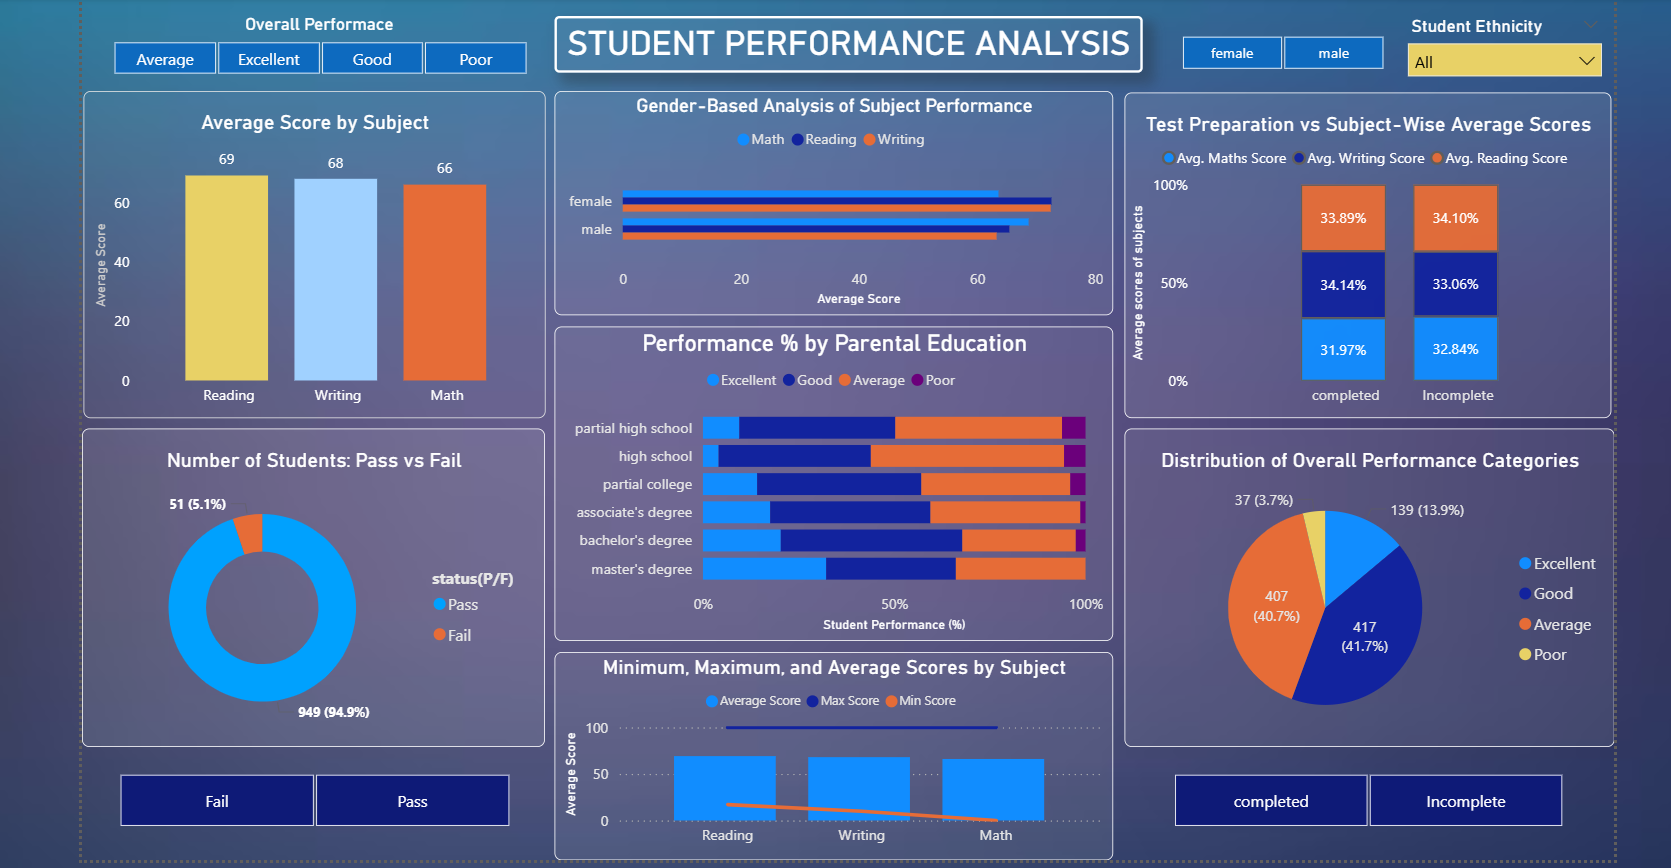

The page's visual inventory and layout, read from the dashboard file:
{"tool":"powerbi","page":{"name":"Page 1","canvas":[1280,720],"ordinal":0},"visuals":[{"type":"clusteredColumnChart","title":"Average Score by Subject","fields":{"Category":["Subjects.Subject"],"Y":["StudentsPerformance.Average Score by Subject"]},"box":[0.9,77.9,386,273.1],"z":0},{"type":"clusteredBarChart","title":"Gender-Based Analysis of Subject Performance","fields":{"Category":["StudentsPerformance.gender "],"Y":["StudentsPerformance.Average Score"],"Series":["Subjects.Subject"]},"box":[394.9,77.9,466.6,187.2],"z":1000},{"type":"pieChart","title":"Distribution of Overall Performance Categories","fields":{"Y":["CountNonNull(StudentsPerformance.student_ID)"],"Category":["PerformanceTable.overall_performance"]},"box":[870.4,360,409.3,266],"z":2000},{"type":"donutChart","title":"Number of Students: Pass vs Fail","fields":{"Category":["StudentsPerformance.status(P/F)"],"Y":["CountNonNull(StudentsPerformance.student_ID)"]},"box":[0,360,386.9,266],"z":3000},{"type":"lineClusteredColumnComboChart","title":"Minimum, Maximum, and Average Scores by Subject","fields":{"Category":["Subjects.Subject"],"Y":["StudentsPerformance.Average Score"],"Y2":["StudentsPerformance.Max Score by Subject","StudentsPerformance.Min Score by Subject"]},"box":[394.9,546.3,466.6,173.7],"z":5000},{"type":"hundredPercentStackedColumnChart","title":"Test Preparation vs Subject-Wise Average Scores","fields":{"Category":["StudentsPerformance.test_preparation_course"],"Y":["StudentsPerformance.Average Maths Score","StudentsPerformance.Average Writing Score","StudentsPerformance.Average Reading Score"]},"box":[870.4,78.8,406.6,272.2],"z":6000},{"type":"slicer","fields":{"Values":["StudentsPerformance.gender "]},"box":[898.2,15.2,207.8,51.9],"z":7000},{"type":"slicer","fields":{"Values":["StudentsPerformance.student_ethnicity"]},"box":[1097.9,9.9,181.8,69.9],"z":8000},{"type":"slicer","fields":{"Values":["StudentsPerformance.test_preparation_course"]},"box":[886.6,642.1,373.4,57.3],"z":9000},{"type":"slicer","fields":{"Values":["StudentsPerformance.status(P/F)"]},"box":[6.3,642.1,374.3,57.3],"z":10000},{"type":"slicer","title":"Overall Performace","fields":{"Values":["StudentsPerformance.overall_performance"]},"box":[0.9,3.6,394,63.6],"z":11000},{"type":"hundredPercentStackedBarChart","title":"Performance % by Parental Education","fields":{"Y":["CountNonNull(StudentsPerformance.student_ID)"],"Series":["PerformanceTable.overall_performance"],"Category":["ParentalEducationTable.parental_level_of_education"]},"box":[394.9,274.9,466.6,262.4],"z":12000},{"type":"textbox","box":[394.9,15.2,491.6,47.5],"z":13000}]}

Visuals, with their boxes in screenshot pixels (x1, y1, x2, y2):
"Average Score by Subject" clusteredColumnChart: rect(88, 119, 546, 442)
"Gender-Based Analysis of Subject Performance" clusteredBarChart: rect(555, 119, 1109, 341)
"Distribution of Overall Performance Categories" pieChart: rect(1119, 453, 1605, 769)
"Number of Students: Pass vs Fail" donutChart: rect(87, 453, 546, 769)
"Minimum, Maximum, and Average Scores by Subject" lineClusteredColumnComboChart: rect(555, 674, 1109, 867)
"Test Preparation vs Subject-Wise Average Scores" hundredPercentStackedColumnChart: rect(1119, 120, 1602, 442)
slicer - StudentsPerformance.gender : rect(1152, 44, 1399, 106)
slicer - StudentsPerformance.student_ethnicity: rect(1389, 38, 1605, 121)
slicer - StudentsPerformance.test_preparation_course: rect(1139, 788, 1582, 856)
slicer - StudentsPerformance.status(P/F): rect(95, 788, 538, 856)
"Overall Performace" slicer: rect(88, 30, 555, 106)
"Performance % by Parental Education" hundredPercentStackedBarChart: rect(555, 352, 1109, 663)
textbox: rect(555, 44, 1139, 100)
